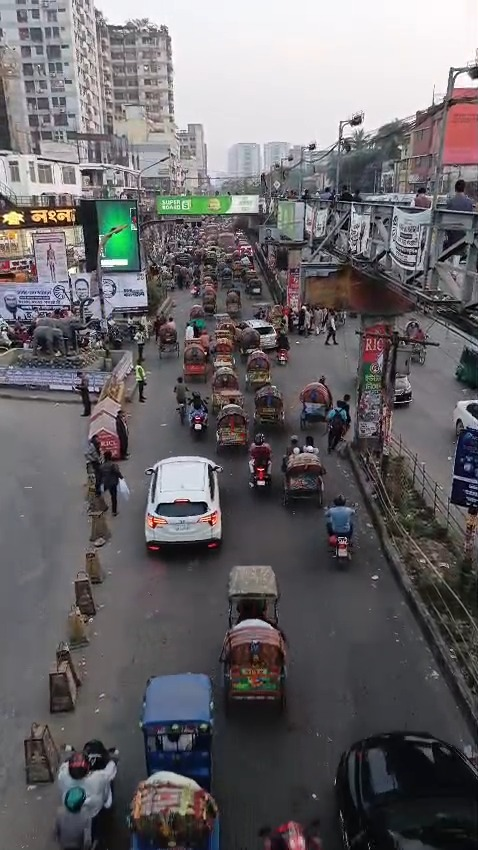private car: (147, 442, 226, 567)
